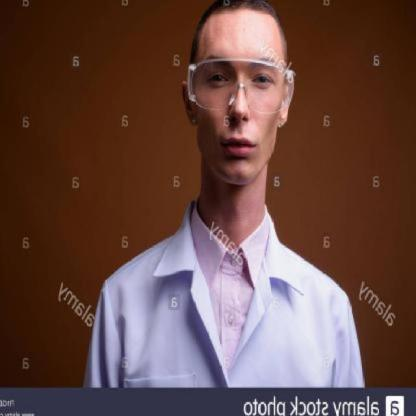oculos: (178, 50, 300, 122)
